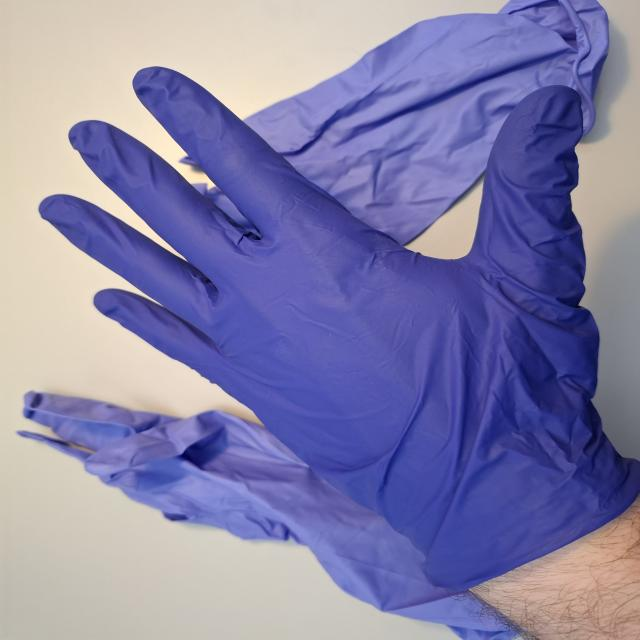glove_on: (36, 64, 640, 593)
